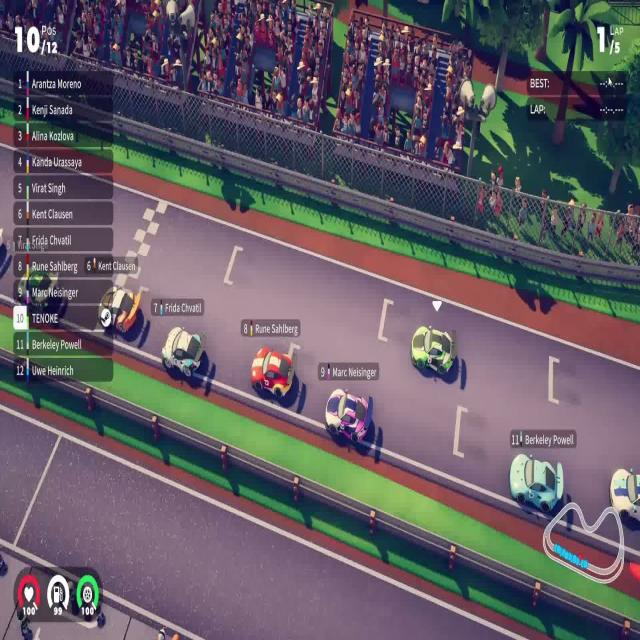car: (508, 452, 564, 514), (324, 386, 372, 445), (250, 343, 297, 400), (410, 323, 456, 377), (161, 326, 205, 380), (97, 284, 143, 334)
